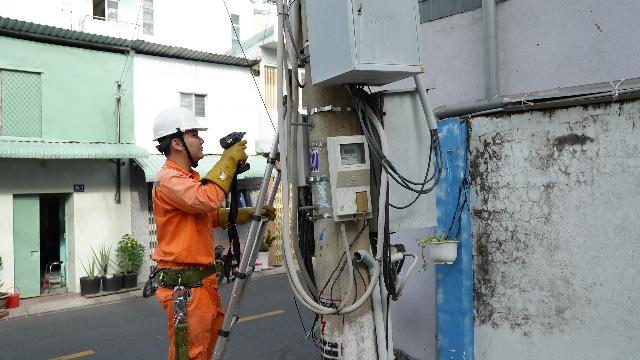gloves: (205, 134, 258, 191), (200, 198, 283, 226)
harness: (141, 95, 208, 149)
